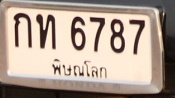txt01: (13, 12, 33, 48)
txt18: (35, 13, 57, 50)
